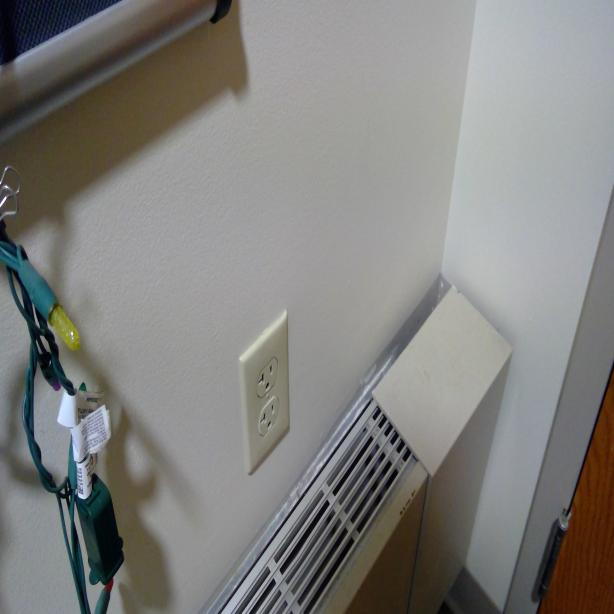typeb: (255, 358, 278, 395), (258, 400, 284, 432)
